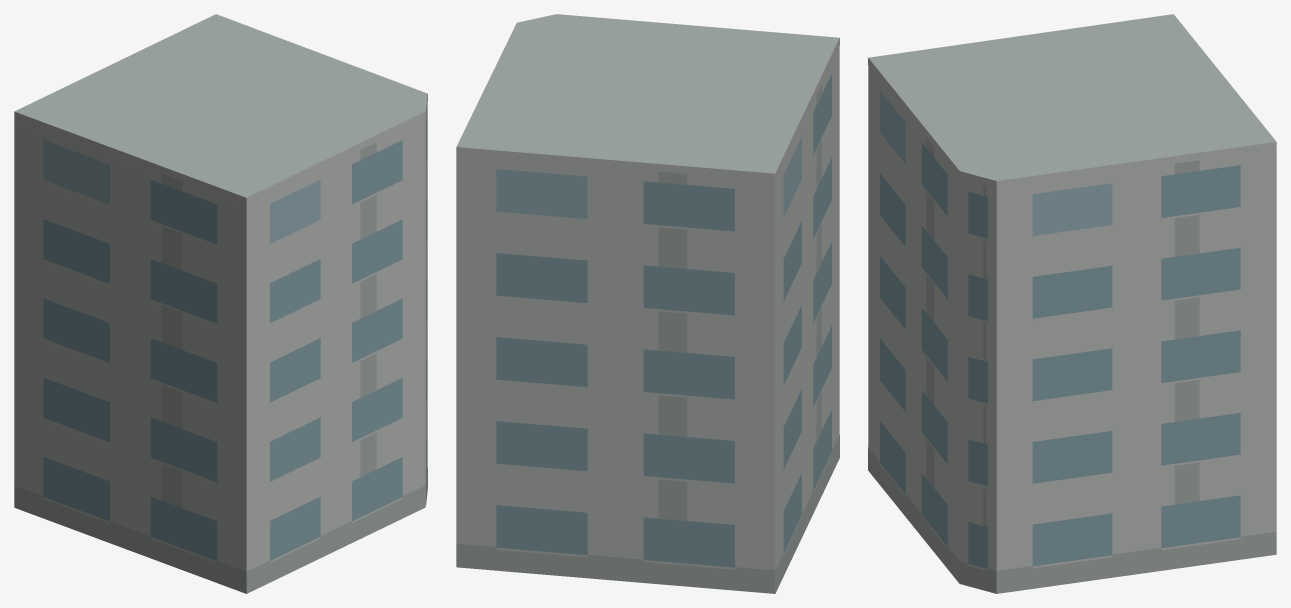
File: survey-upis-32964451.glb
The picture shows the model from 3 angles, left to right: view 1: azimuth 30°, elevation 25°; view 2: azimuth 150°, elevation 25°; view 3: azimuth 270°, elevation 25°; orthographic projection. The views are drawn at different scales.
Visible parts, largest first — view 1: survey-upis-32964451.tmp; view 2: survey-upis-32964451.tmp; view 3: survey-upis-32964451.tmp.
Part boxes in pixels (box(x1,y1,x2,y2)): survey-upis-32964451.tmp: box(14, 14, 427, 593); survey-upis-32964451.tmp: box(456, 14, 839, 593); survey-upis-32964451.tmp: box(868, 14, 1276, 593).
Size of the model in its own units: 11.38 by 13.1 by 11.76.
